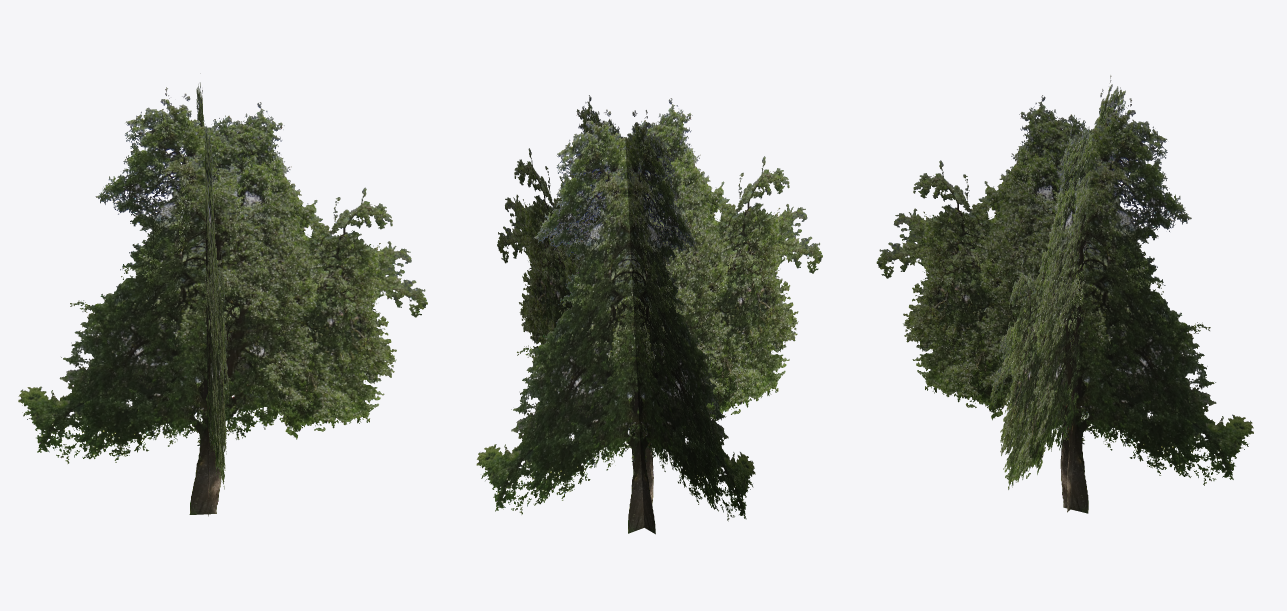
Rendered from obecny1.dae.
3 renders of one model, left to right at view 1: azimuth 30°, elevation 25°; view 2: azimuth 150°, elevation 25°; view 3: azimuth 270°, elevation 25°, orthographic. The views are drawn at different scales.
Visible parts, largest first — view 1: group_0 (×2); view 2: group_0 (×2); view 3: group_0 (×2).
Part boxes in pixels (box(x1,y1,x2,y2)): group_0 (×2): box(18, 73, 427, 516); group_0 (×2): box(476, 95, 822, 534); group_0 (×2): box(876, 75, 1253, 513).
Bounding box in the file's own units: 512 × 530 × 638.
1 material, 1 textured.
